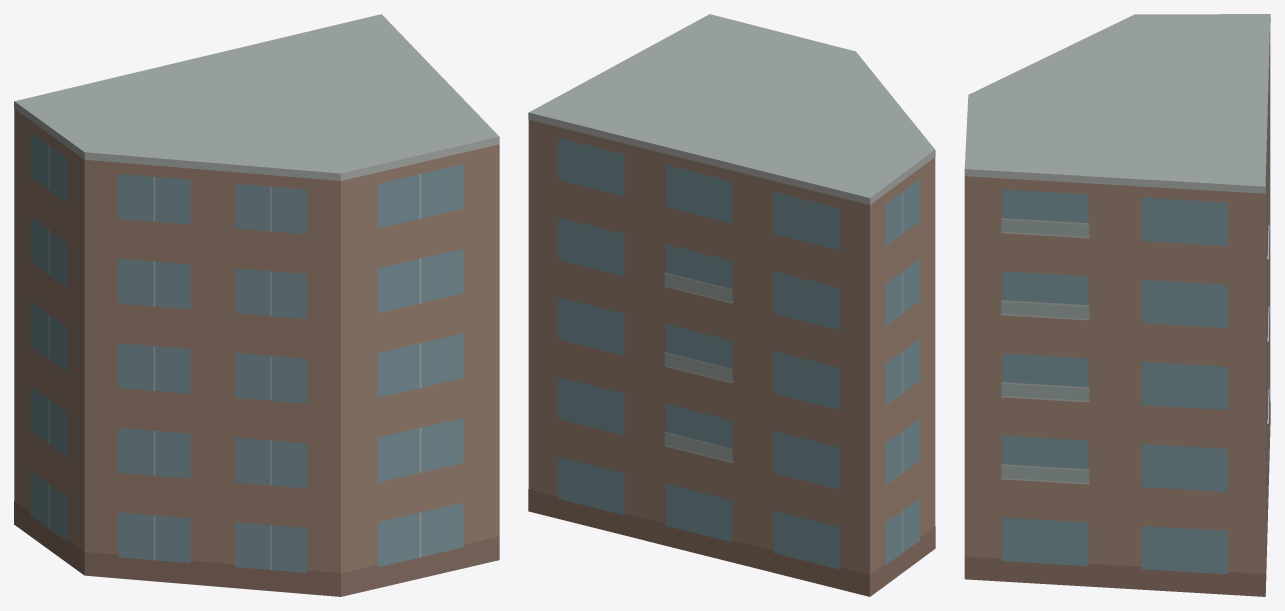
Rendered from survey-upis-32526185.glb.
3 renders of one model, left to right at view 1: azimuth 30°, elevation 25°; view 2: azimuth 150°, elevation 25°; view 3: azimuth 270°, elevation 25°, orthographic. The views are drawn at different scales.
Visible parts, largest first — view 1: survey-upis-32526185.tmp; view 2: survey-upis-32526185.tmp; view 3: survey-upis-32526185.tmp.
Boxes of the visible parts, x1=… form: survey-upis-32526185.tmp: x1=14, y1=14, x2=499, y2=596; survey-upis-32526185.tmp: x1=528, y1=14, x2=935, y2=596; survey-upis-32526185.tmp: x1=964, y1=14, x2=1270, y2=596.
Bounding box in the file's own units: 12.55 × 13.9 × 9.4.
